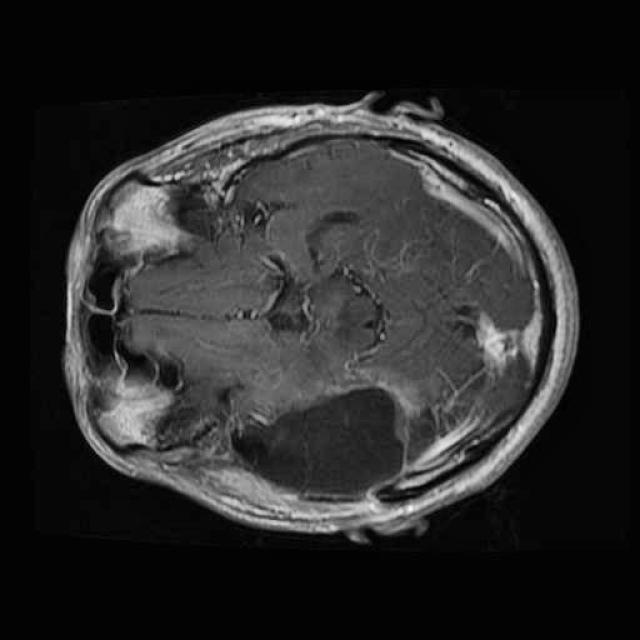Non-Tumor: (226, 375, 430, 520)
